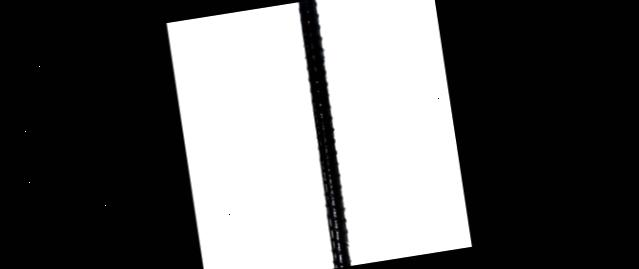crow bar: (281, 0, 372, 269)
